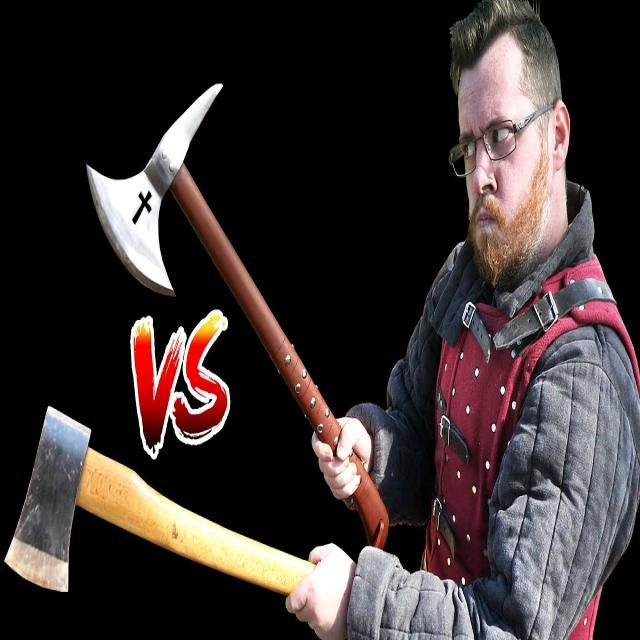axe: (83, 84, 400, 548), (1, 403, 317, 601)
